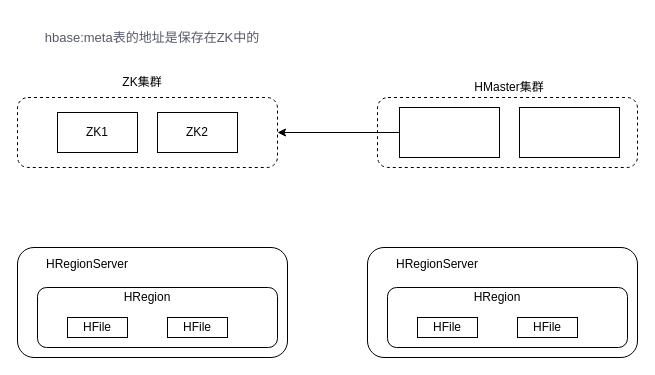
Image size: 655x375. Some labels were removed from this diagram. Each missing label, with the box of its shape:
HMaster1: (398, 106, 500, 158)
HMaster2: (518, 106, 620, 158)
